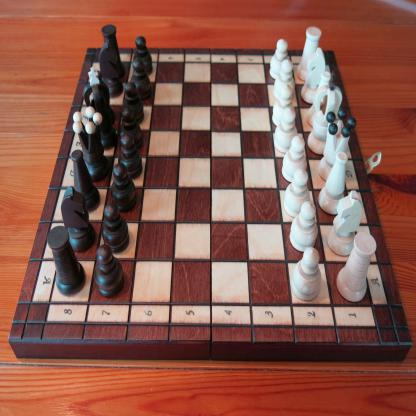black-bishop: (70, 149, 101, 214), (92, 69, 116, 127)
black-king: (83, 66, 118, 151)
black-knight: (60, 185, 96, 252), (99, 41, 124, 99)
black-pawn: (93, 243, 126, 300), (100, 201, 130, 254), (110, 162, 137, 214), (117, 131, 143, 180), (119, 105, 144, 152), (122, 81, 145, 125), (130, 57, 152, 102), (132, 35, 153, 76)
black-queen: (72, 106, 111, 183)
black-rook: (46, 224, 86, 298), (100, 23, 126, 81)
white-bishop: (318, 151, 348, 216), (306, 71, 332, 128)
white-king: (307, 70, 343, 155)
white-knight: (326, 190, 363, 257), (300, 47, 326, 105)
white-pawn: (291, 247, 321, 301), (289, 200, 318, 253), (283, 168, 310, 218), (281, 135, 307, 183), (273, 107, 298, 154), (272, 84, 295, 127), (273, 59, 295, 102), (269, 38, 290, 81)
white-queen: (318, 107, 357, 182)
white-rook: (336, 231, 377, 303), (296, 26, 322, 82)
